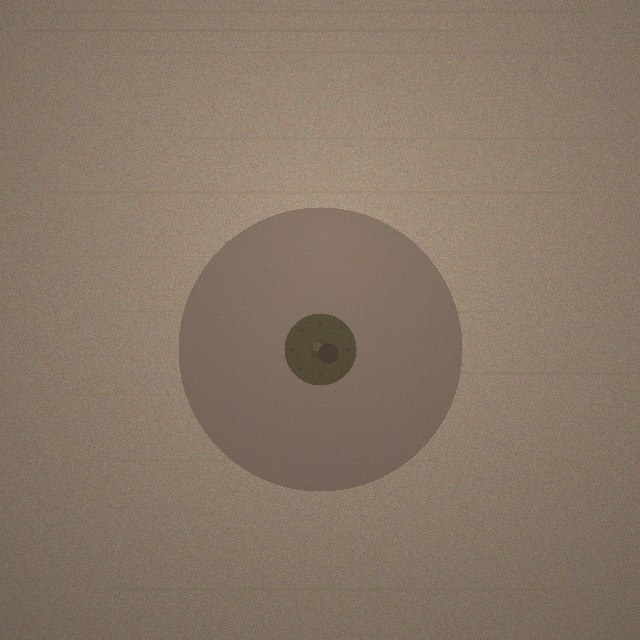cold_weld: (178, 207, 462, 491)
